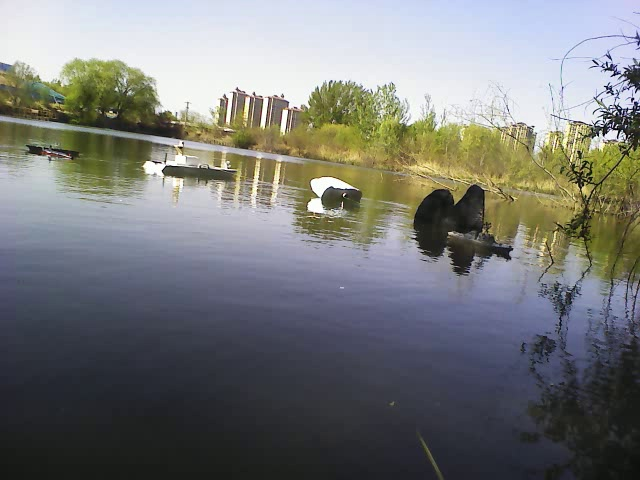aircraft_carrier: (25, 137, 82, 155)
boat: (142, 144, 243, 184)
iceberg: (309, 167, 366, 206)
rock: (413, 175, 486, 230)
warship: (448, 227, 516, 255)
